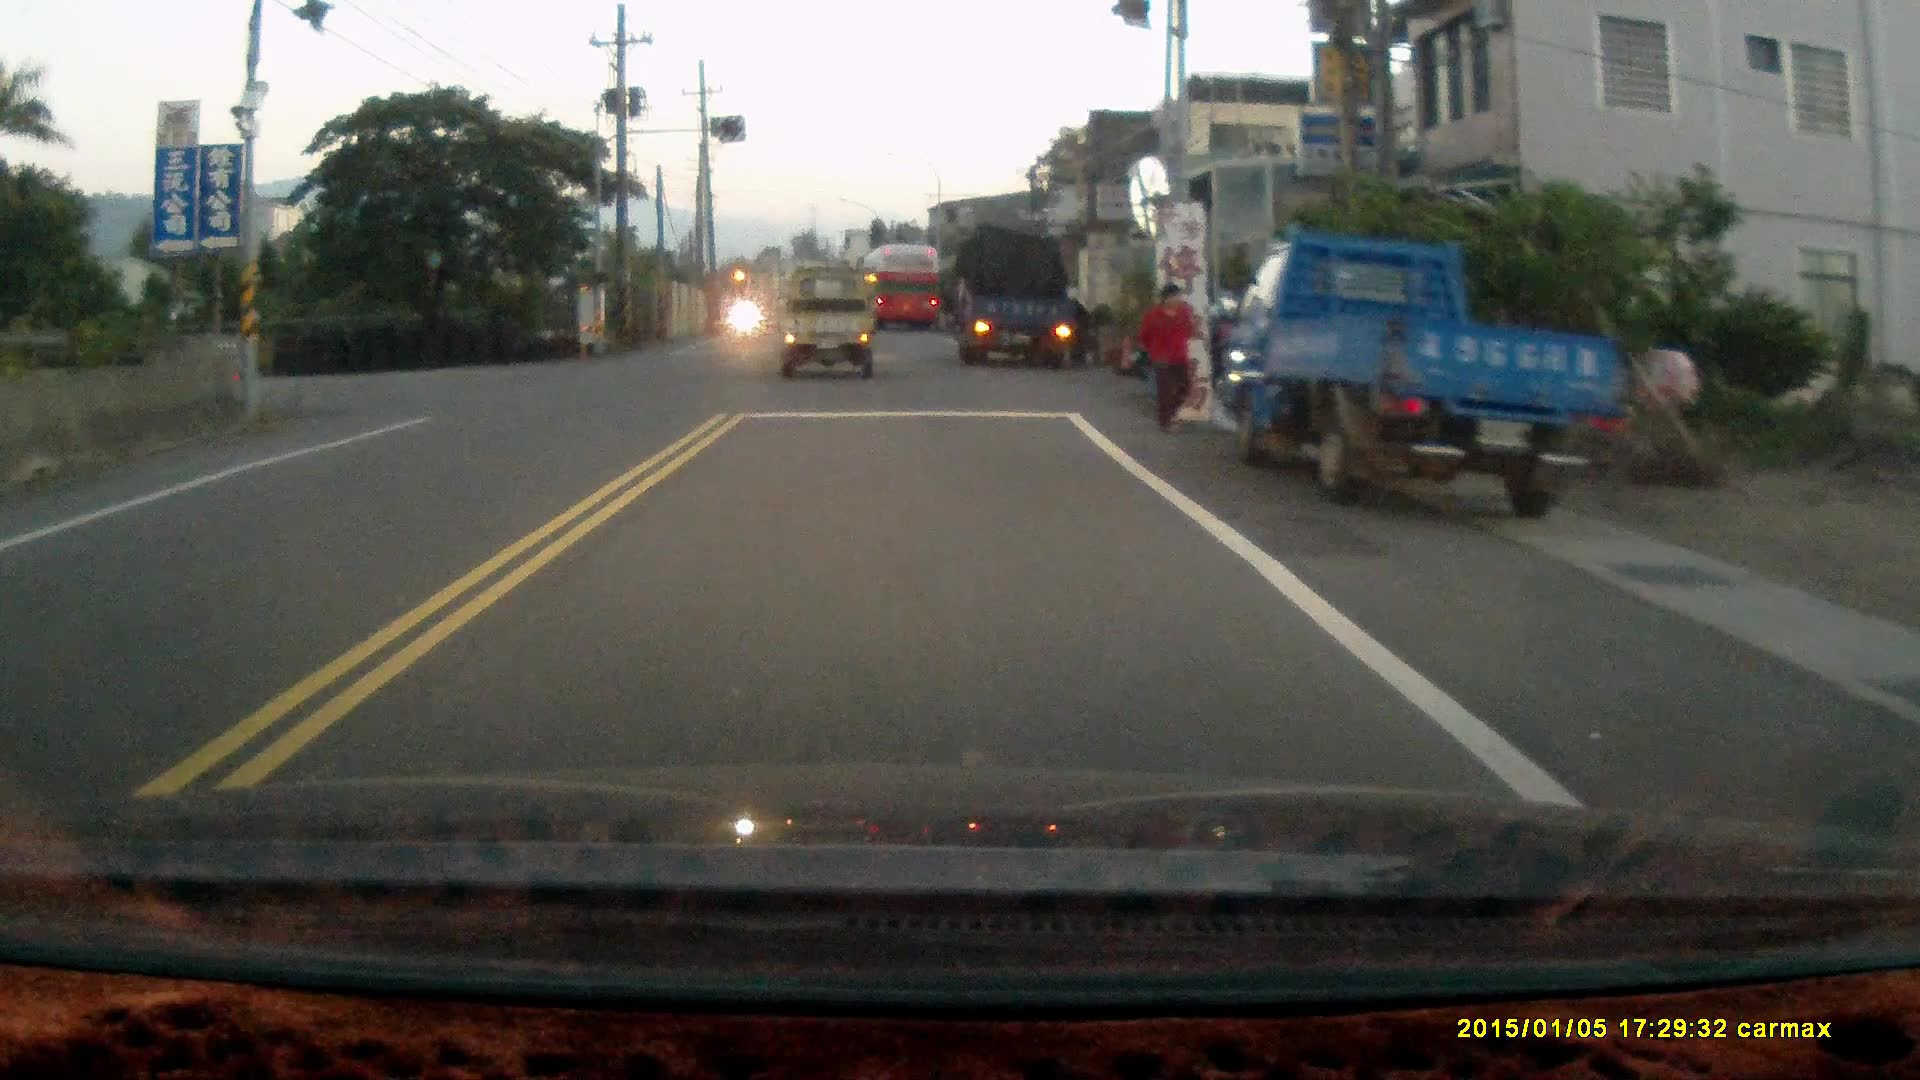pedestrian: (1136, 282, 1197, 436)
rider: (730, 282, 758, 341)
vehicle: (1224, 228, 1625, 515), (957, 226, 1089, 374), (785, 265, 884, 379), (864, 243, 954, 327)
